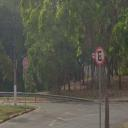NoEstacionar: (94, 47, 105, 66)
